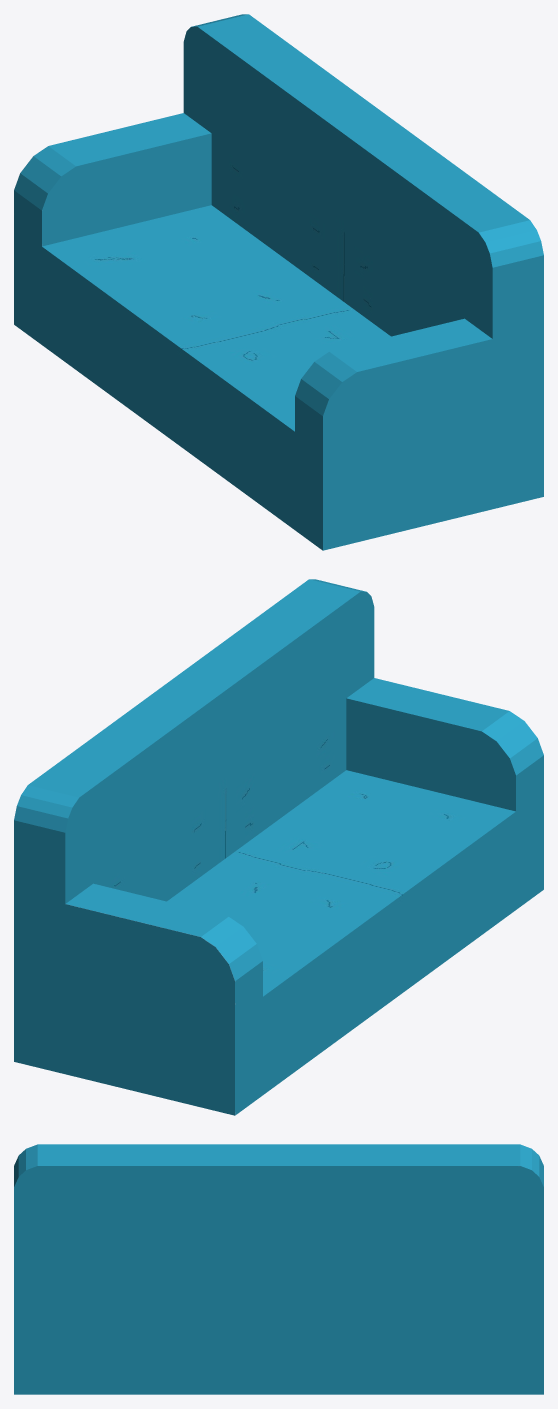
Rendered from sofa.obj.
The picture shows the model from 3 angles, top to bottom: view 1: azimuth 30°, elevation 25°; view 2: azimuth 150°, elevation 25°; view 3: azimuth 270°, elevation 25°; orthographic projection. The views are drawn at different scales.
Parts seen in each view (by area): view 1: sofa_Cube.003; view 2: sofa_Cube.003; view 3: sofa_Cube.003.
Part boxes in pixels (<box>): sofa_Cube.003: <box>14,14,543,550</box>; sofa_Cube.003: <box>14,579,543,1115</box>; sofa_Cube.003: <box>14,1144,543,1394</box>.
Size of the model in its own units: 2.55 by 2.94 by 6.18.
